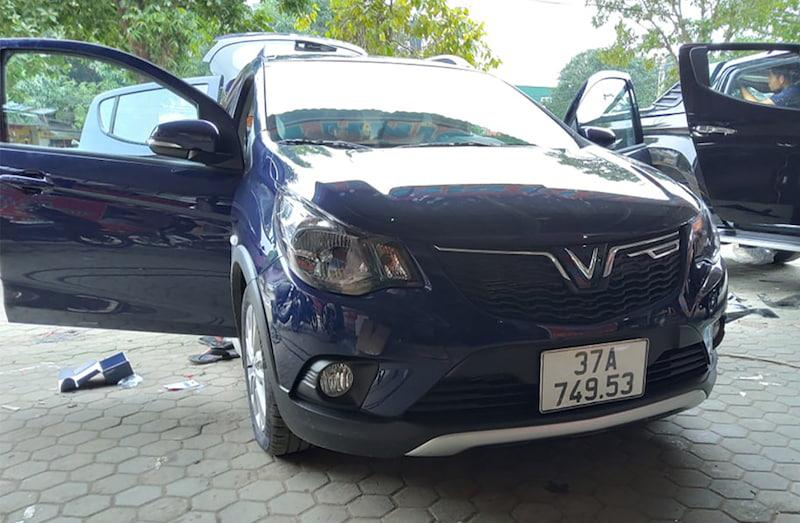numplate: (535, 337, 647, 413)
